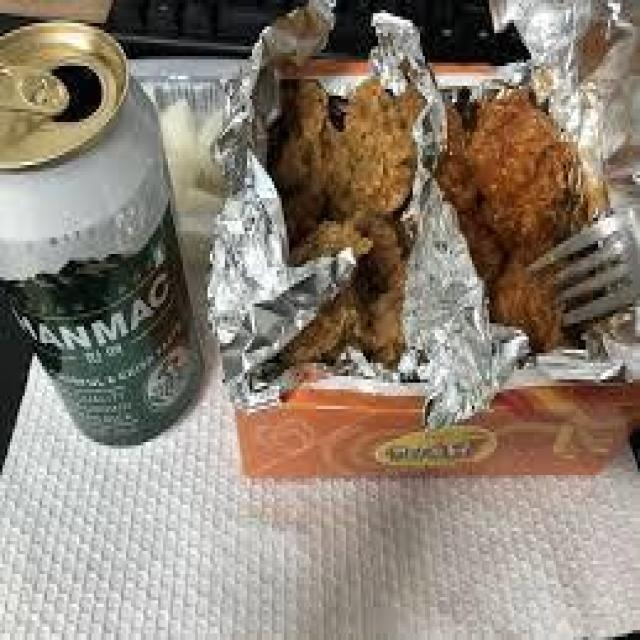beer-can: (0, 15, 210, 447)
